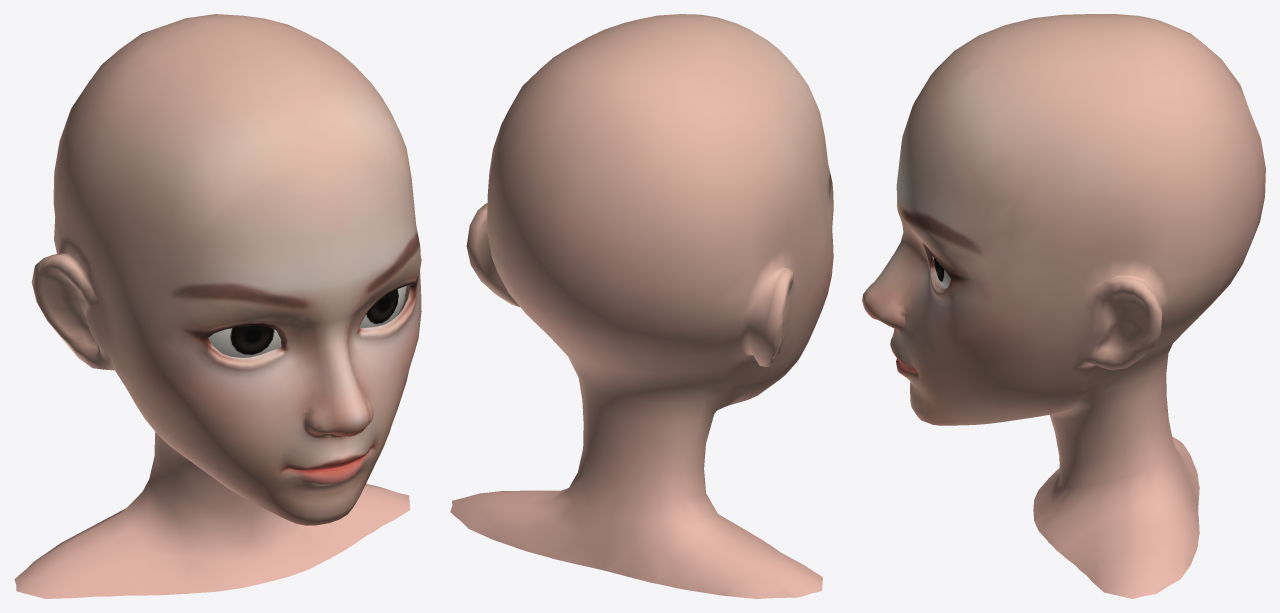
The model's file is asian_female_loPoly_0001_grp_head.glb.
3 renders of one model, left to right at view 1: azimuth 30°, elevation 25°; view 2: azimuth 150°, elevation 25°; view 3: azimuth 270°, elevation 25°, orthographic. The views are drawn at different scales.
Parts seen in each view (by area): view 1: asian_female_loPoly_body_0001_geo, eye_L_0001_geo, eye_R_0001_geo; view 2: asian_female_loPoly_body_0001_geo; view 3: asian_female_loPoly_body_0001_geo.
Part boxes in pixels (box(x1,y1,x2,y2)): asian_female_loPoly_body_0001_geo: box(14, 14, 421, 598); eye_L_0001_geo: box(208, 325, 281, 357); eye_R_0001_geo: box(359, 285, 406, 328); asian_female_loPoly_body_0001_geo: box(450, 14, 833, 598); asian_female_loPoly_body_0001_geo: box(862, 14, 1265, 598).
Size of the model in its own units: 0.2725 by 0.3446 by 0.2626.
Materials: 3 (2 with a texture image).
